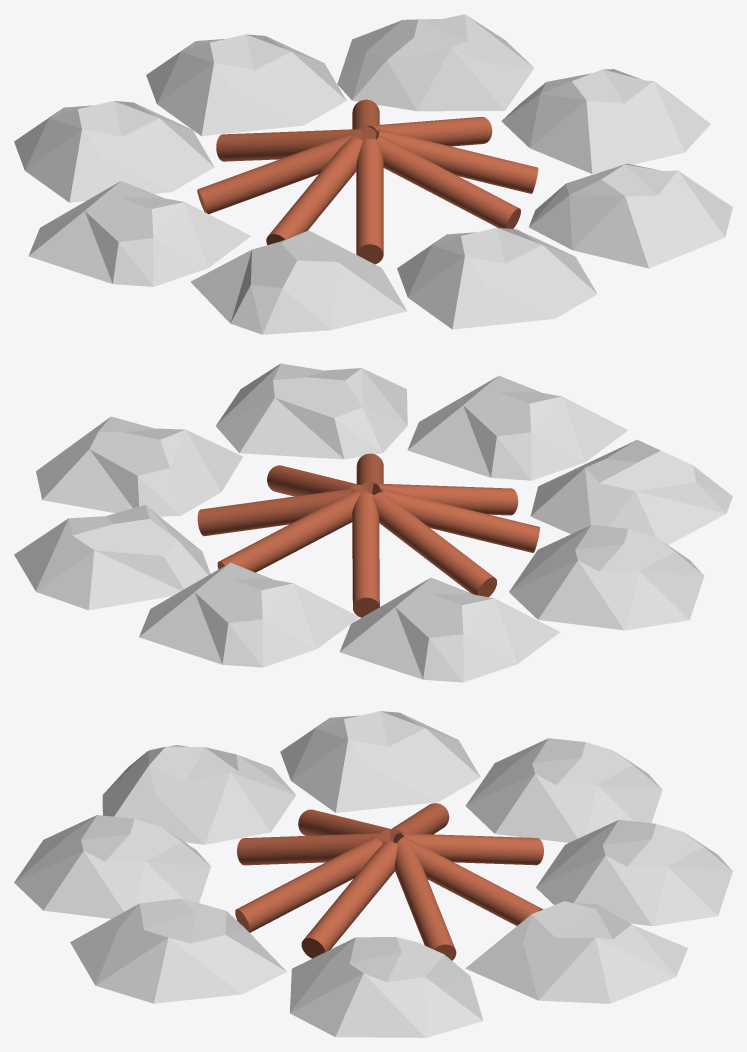
File: firePit.fbx
3 renders of one model, top to bottom at view 1: azimuth 30°, elevation 25°; view 2: azimuth 150°, elevation 25°; view 3: azimuth 270°, elevation 25°, orthographic.
Visible parts, largest first — view 1: Cube.005, Cube.002, Cube, Cube.006, Cube.001, Cube.003, Cube.004, Cube.007, Cylindre.004, Cylindre.007, Cylindre.005, Cylindre.006 (+4 smaller); view 2: Cube.003, Cube.001, Cube, Cube.007, Cube.006, Cube.004, Cube.005, Cube.002, Cylindre.007, Cylindre.006, Cylindre.001, Cylindre.003 (+4 smaller); view 3: Cube.004, Cube.001, Cube.005, Cube.006, Cube.003, Cube.007, Cube, Cube.002, Cylindre.004, Cylindre.005, Cylindre.001, Cylindre (+4 smaller).
Boxes of the visible parts, box(x1,y1,x2,y2) form: Cube.005: box(337, 14, 534, 111); Cube.002: box(190, 230, 406, 334); Cube: box(397, 227, 597, 329); Cube.006: box(146, 34, 346, 136); Cube.001: box(529, 163, 732, 268); Cube.003: box(28, 181, 250, 286); Cube.004: box(501, 69, 710, 173); Cube.007: box(14, 101, 214, 202); Cylindre.004: box(375, 136, 520, 228); Cylindre.007: box(197, 133, 353, 213); Cylindre.005: box(376, 129, 538, 193); Cylindre.006: box(266, 137, 362, 244); Cube.003: box(509, 525, 704, 630); Cube.001: box(216, 363, 407, 459); Cube: box(407, 375, 627, 480); Cube.007: box(340, 577, 559, 682); Cube.006: box(139, 562, 359, 667); Cube.004: box(36, 416, 243, 516); Cube.005: box(14, 505, 210, 610); Cube.002: box(530, 439, 732, 544); Cylindre.007: box(372, 492, 496, 597); Cylindre.006: box(381, 488, 539, 552); Cylindre.001: box(217, 490, 360, 572); Cylindre.003: box(197, 488, 354, 536); Cube.004: box(290, 937, 483, 1037); Cube.001: box(70, 898, 286, 1003); Cube.005: box(465, 901, 687, 1003); Cube.006: box(536, 819, 732, 925); Cube.003: box(280, 711, 480, 812); Cube.007: box(465, 738, 662, 842); Cube: box(14, 815, 210, 918); Cube.002: box(102, 745, 295, 844); Cylindre.004: box(235, 837, 382, 932); Cylindre.005: box(301, 841, 397, 958); Cylindre.001: box(398, 837, 542, 925); Cylindre: box(393, 833, 543, 865).
Size of the model in its own units: 384 by 36.11 by 369.
